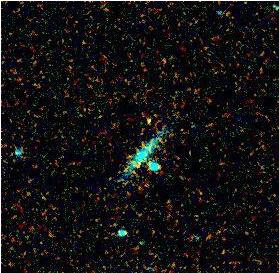star: (129, 107, 159, 137)
